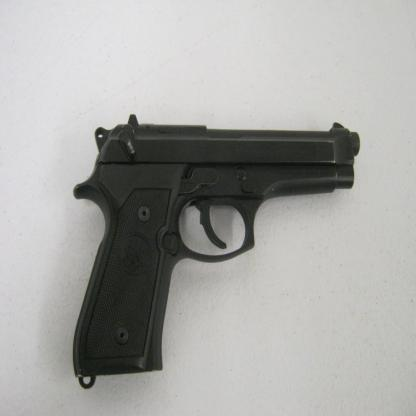Pistol: (71, 113, 360, 390)
